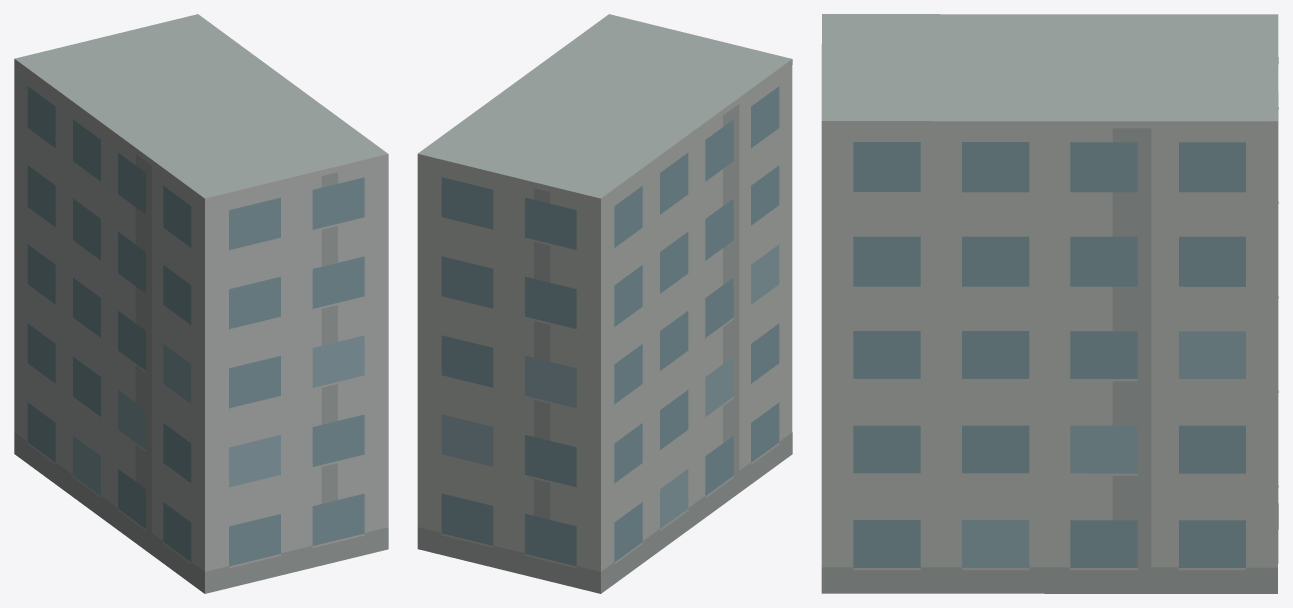
The model's file is survey-upis-32868855.glb.
The picture shows the model from 3 angles, left to right: view 1: azimuth 30°, elevation 25°; view 2: azimuth 150°, elevation 25°; view 3: azimuth 270°, elevation 25°; orthographic projection. The views are drawn at different scales.
Parts seen in each view (by area): view 1: survey-upis-32868855.tmp; view 2: survey-upis-32868855.tmp; view 3: survey-upis-32868855.tmp.
Part boxes in pixels (x1=…): survey-upis-32868855.tmp: x1=14, y1=14, x2=388, y2=593; survey-upis-32868855.tmp: x1=417, y1=14, x2=792, y2=593; survey-upis-32868855.tmp: x1=821, y1=14, x2=1278, y2=593.
Bounding box in the file's own units: 7.87 × 16.1 × 14.14.
